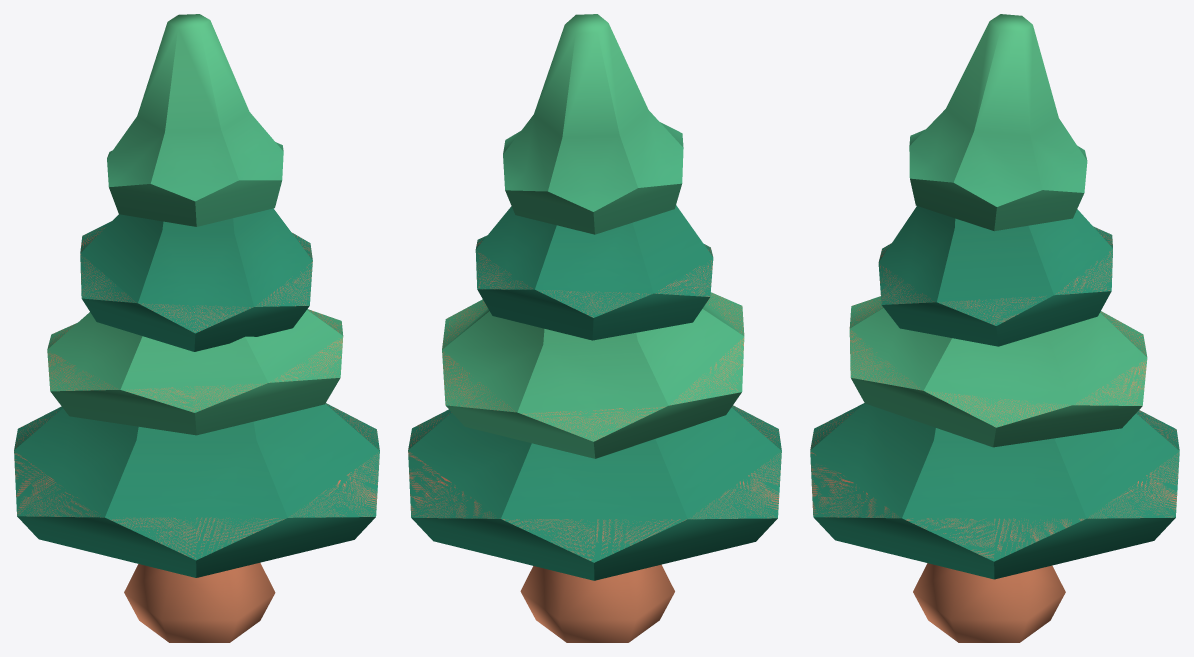
Rendered from pine-crooked.001_lev3.glb.
3 views of the same model, side by side, from view 1: azimuth 30°, elevation 25°; view 2: azimuth 150°, elevation 25°; view 3: azimuth 270°, elevation 25° (orthographic). The views are drawn at different scales.
Parts seen in each view (by area): view 1: pine-crooked.001_lev3; view 2: pine-crooked.001_lev3; view 3: pine-crooked.001_lev3.
Boxes of the visible parts, box(x1,y1,x2,y2) form: pine-crooked.001_lev3: box(14, 14, 379, 642); pine-crooked.001_lev3: box(408, 14, 781, 642); pine-crooked.001_lev3: box(810, 14, 1179, 642).
Bounding box in the file's own units: 8.61 × 13.59 × 7.6.
1 material, 1 textured.
